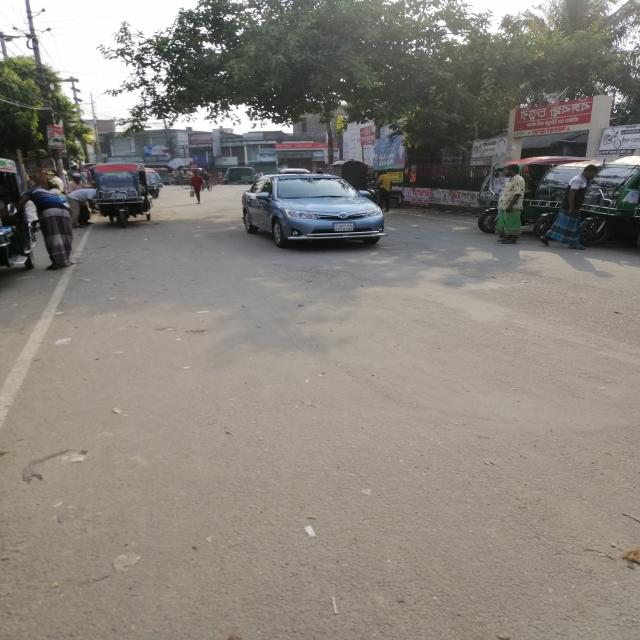Car: (230, 172, 398, 247)
